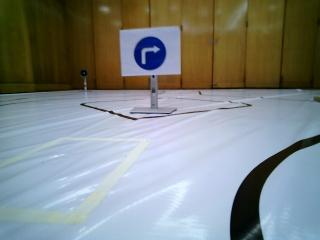right: (117, 29, 180, 74)
